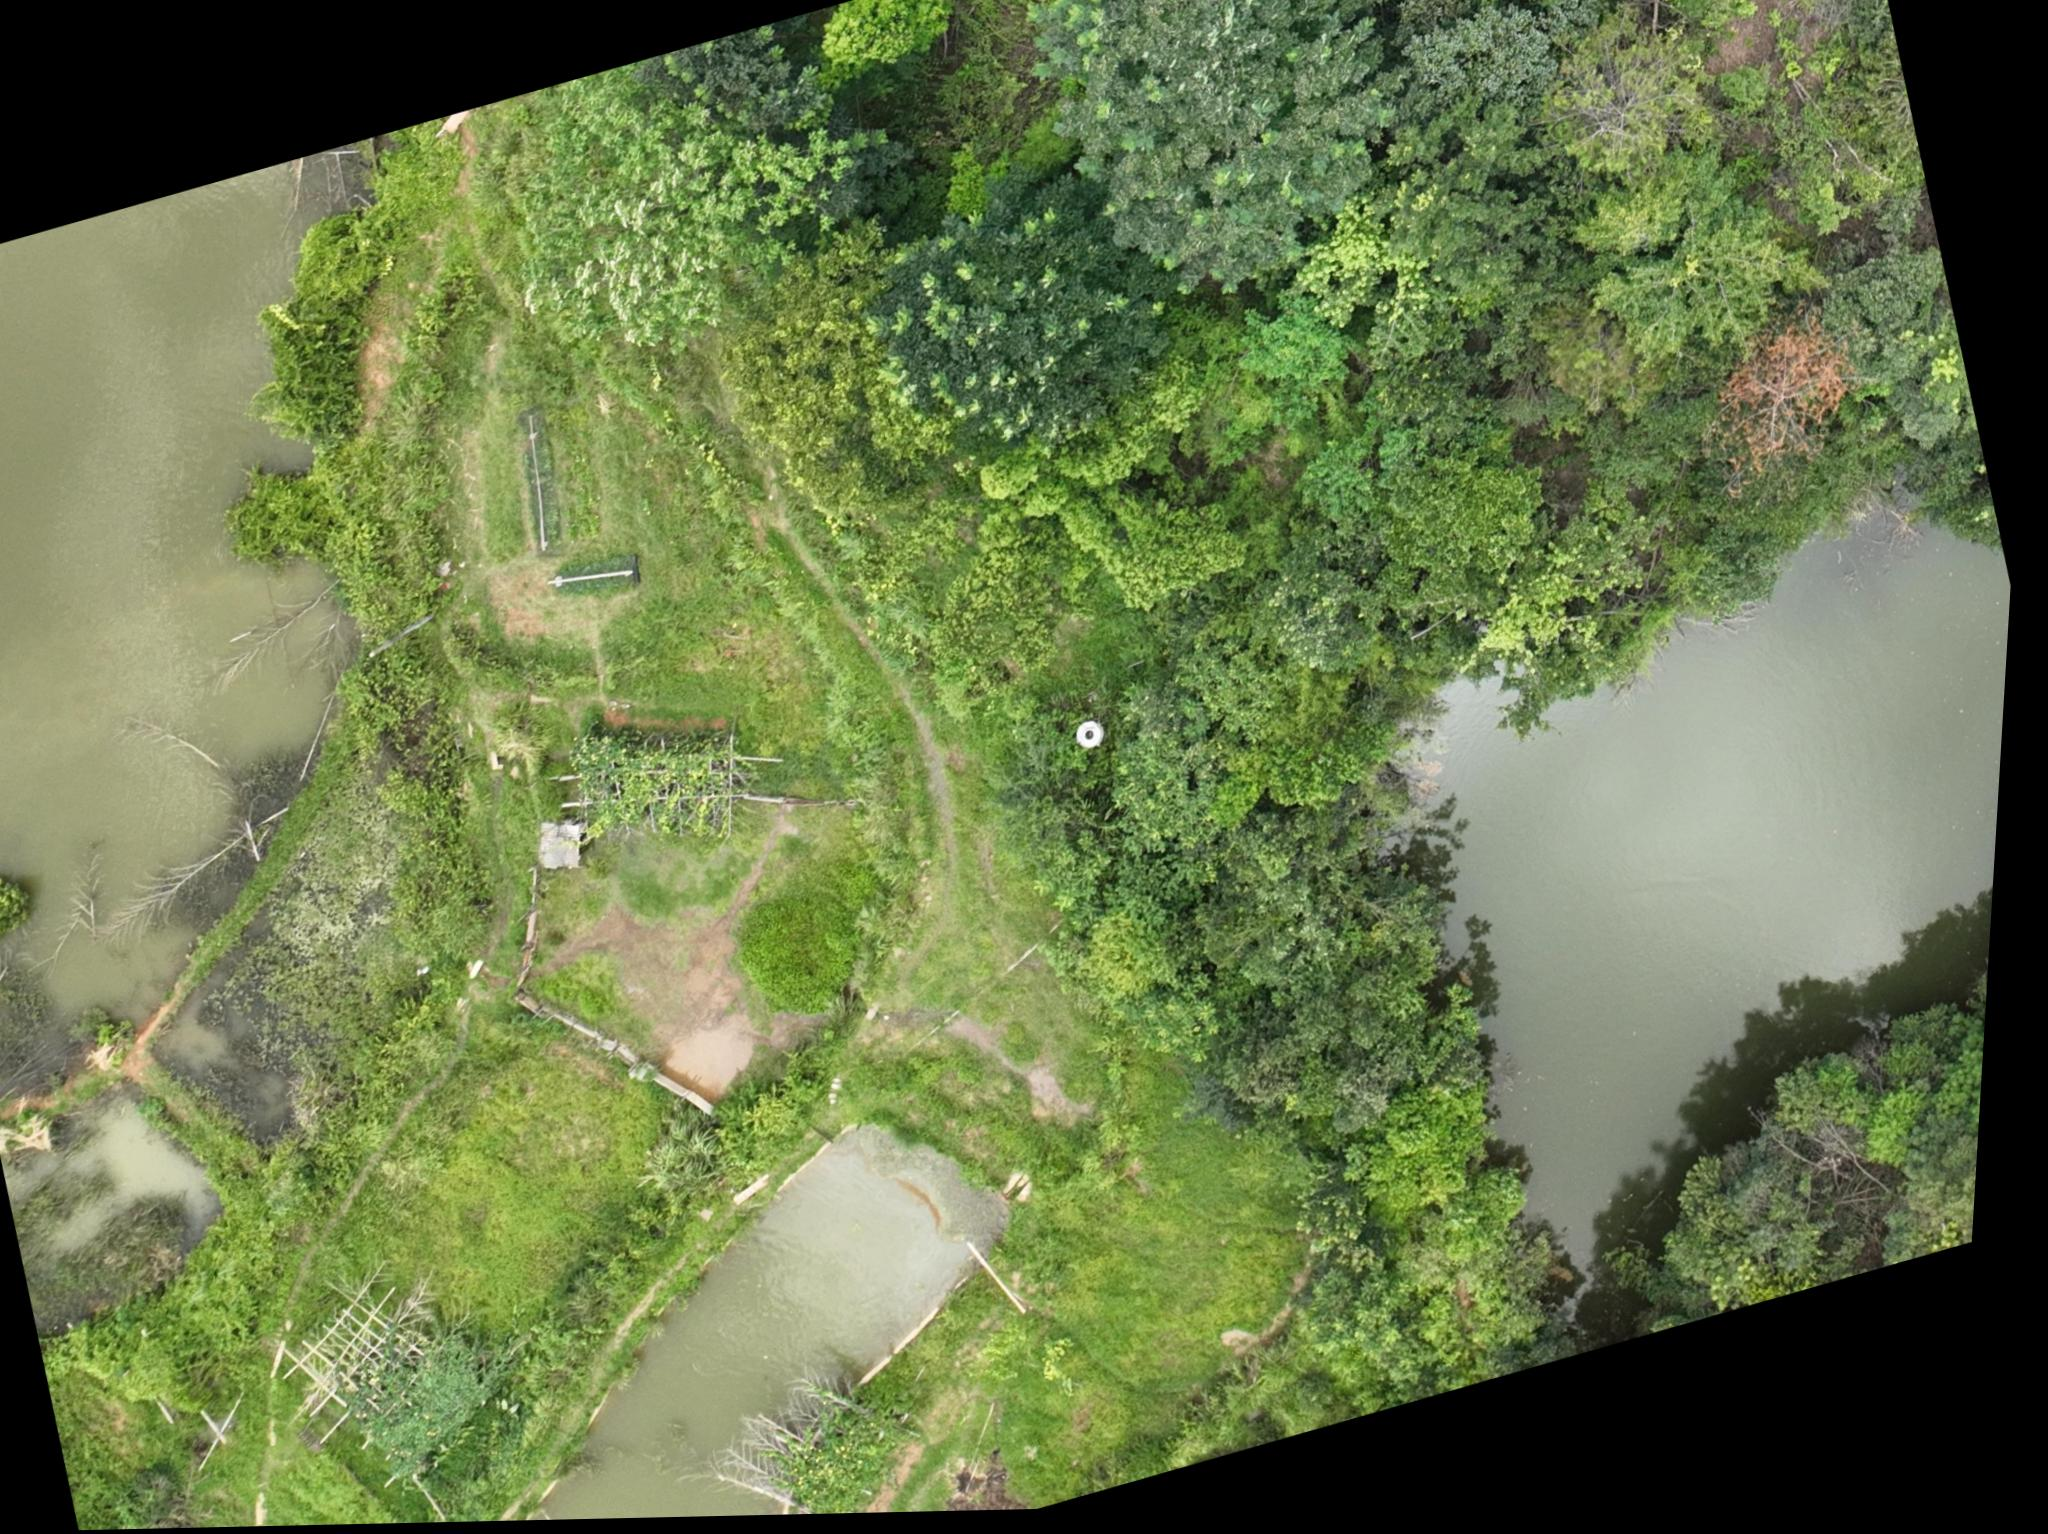heavy: (1695, 295, 1876, 493)
